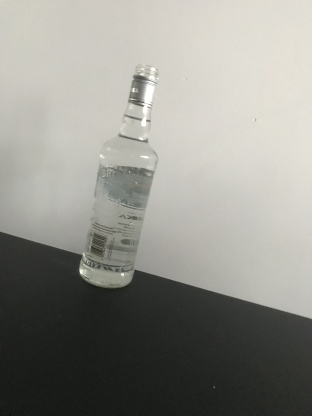nakretka: (126, 64, 160, 109)
